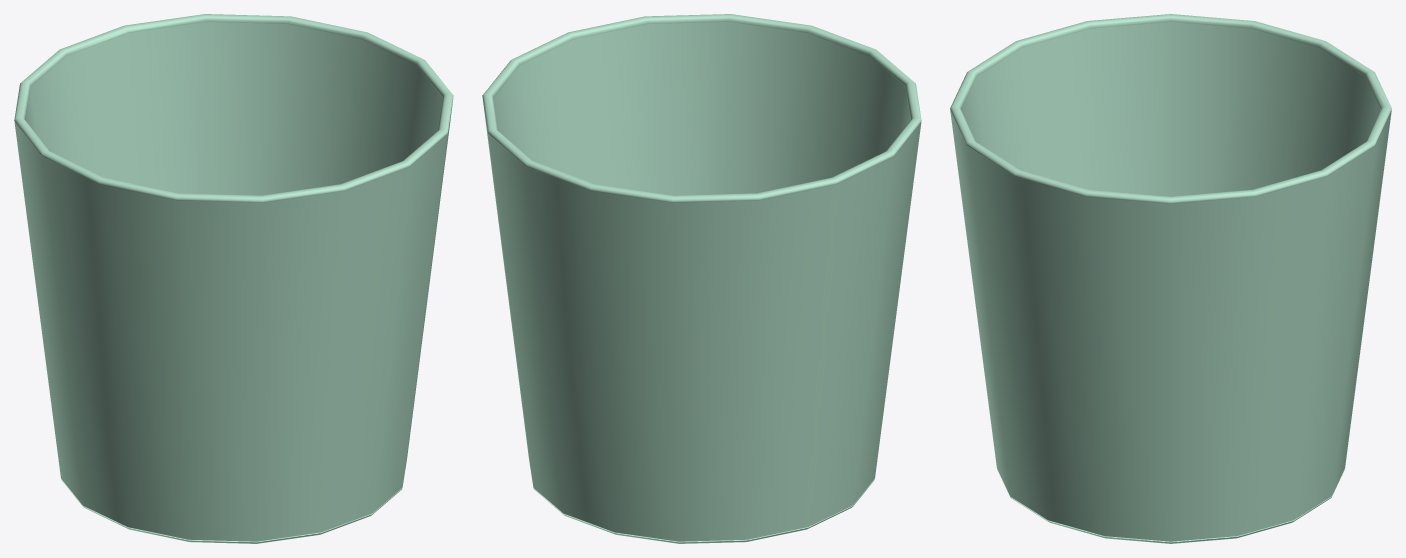
The model's file is Trashcan.fbx.
3 views of the same model, side by side, from view 1: azimuth 30°, elevation 25°; view 2: azimuth 150°, elevation 25°; view 3: azimuth 270°, elevation 25° (orthographic).
Visible parts, largest first — view 1: Trashcan; view 2: Trashcan; view 3: Trashcan.
Boxes of the visible parts, left/top/right/bottom form: Trashcan: left=14, top=14, right=453, bottom=543; Trashcan: left=482, top=14, right=921, bottom=543; Trashcan: left=950, top=14, right=1391, bottom=543.
Size of the model in its own units: 189 by 173 by 189.
